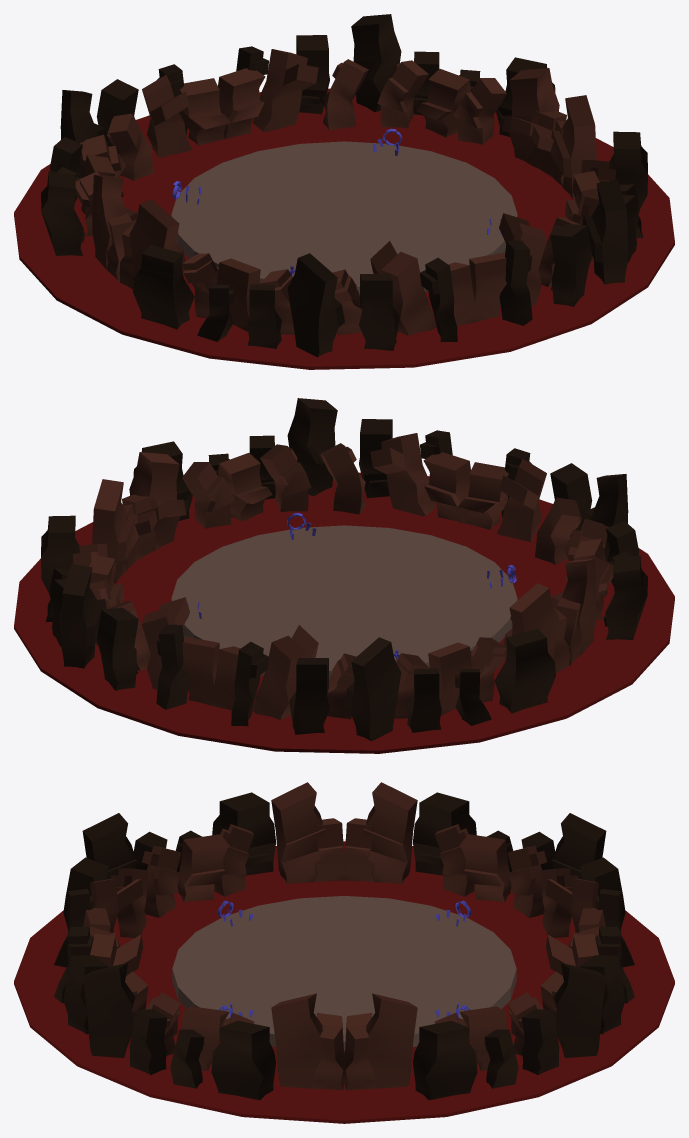
Rendered from enviroment (1).FBX.
3 renders of one model, top to bottom at view 1: azimuth 30°, elevation 25°; view 2: azimuth 150°, elevation 25°; view 3: azimuth 270°, elevation 25°, orthographic.
Visible parts, largest first — view 1: Map Base, main; view 2: Map Base, main; view 3: Map Base, main.
Part boxes in pixels (left/top/right/bottom): Map Base: left=14, top=14, right=674, bottom=369; main: left=171, top=141, right=517, bottom=295; Map Base: left=14, top=398, right=674, bottom=753; main: left=171, top=525, right=517, bottom=679; Map Base: left=14, top=782, right=674, bottom=1123; main: left=172, top=896, right=516, bottom=1052.
Size of the model in its own units: 15115 by 2607 by 15115.
